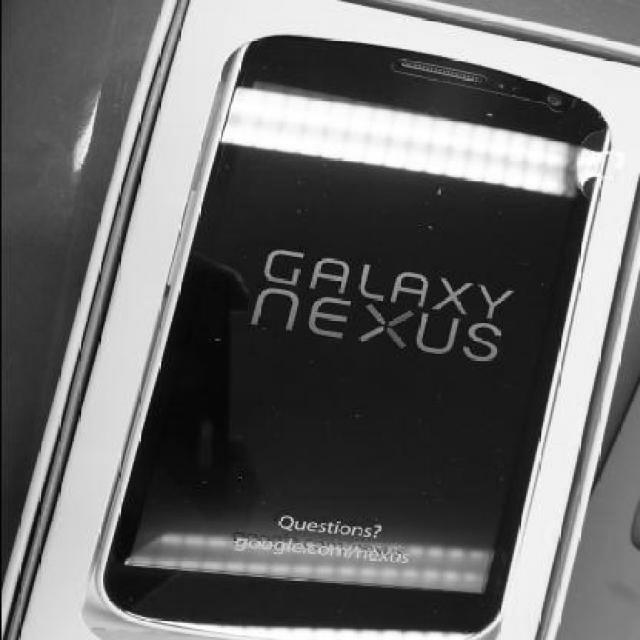fake: (30, 34, 624, 640)
